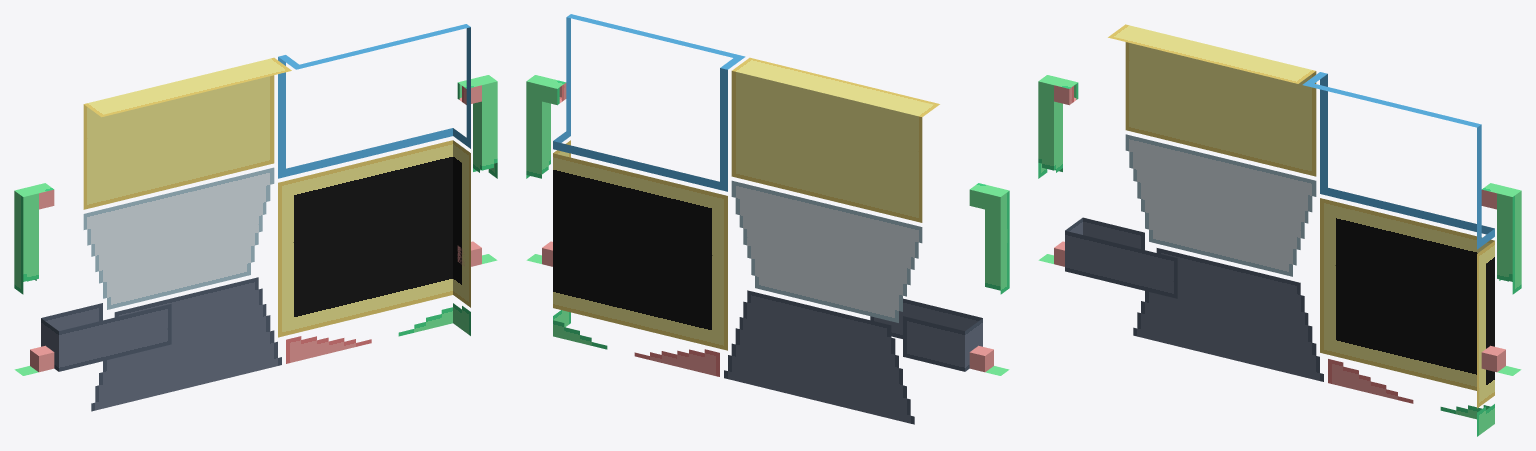
File: Monitor_45x30.glb
The picture shows the model from 3 angles, left to right: view 1: azimuth 30°, elevation 25°; view 2: azimuth 150°, elevation 25°; view 3: azimuth 330°, elevation 25°; orthographic projection.
Parts seen in each view (by area): view 1: cube (×4); view 2: cube (×5); view 3: cube (×5).
Boxes of the visible parts, x1=… form: cube (×4): x1=14, y1=24, x2=497, y2=411; cube (×5): x1=526, y1=14, x2=1009, y2=424; cube (×5): x1=1038, y1=24, x2=1521, y2=436.
Size of the model in its own units: 3.81 by 2.38 by 0.25.
Materials: 1 (1 with a texture image).
